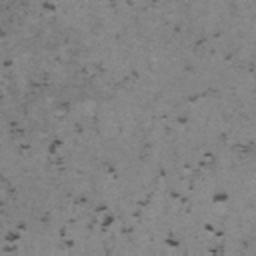Oxide scale of temperature system: (3, 23, 234, 256), (10, 78, 72, 156), (42, 1, 58, 13), (129, 70, 141, 81), (1, 59, 14, 69)
